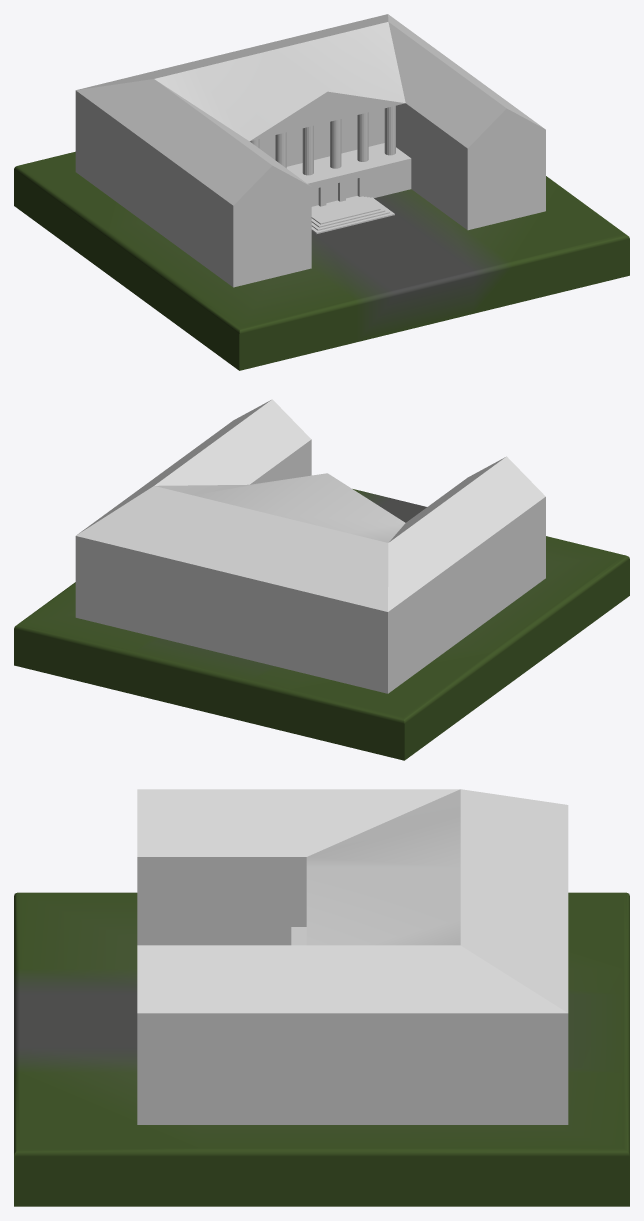
Rendered from t_parliament.glb.
The picture shows the model from 3 angles, top to bottom: view 1: azimuth 30°, elevation 25°; view 2: azimuth 150°, elevation 25°; view 3: azimuth 270°, elevation 25°; orthographic projection. The views are drawn at different scales.
Parts seen in each view (by area): view 1: t_Parliament; view 2: t_Parliament; view 3: t_Parliament.
Part boxes in pixels (<box>): t_Parliament: <box>14,14,629,370</box>; t_Parliament: <box>14,399,629,760</box>; t_Parliament: <box>14,789,629,1206</box>.
Bounding box in the file's own units: 10 × 3.75 × 10.
